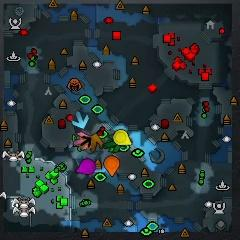p3: (76, 158, 96, 175)
p4: (114, 129, 133, 146)
p5: (104, 156, 119, 177)
x1: (73, 132, 89, 149)
x3: (72, 111, 89, 129)
x4: (103, 135, 120, 152)
x5: (89, 133, 104, 153)
x5Clone: (80, 135, 91, 148)
